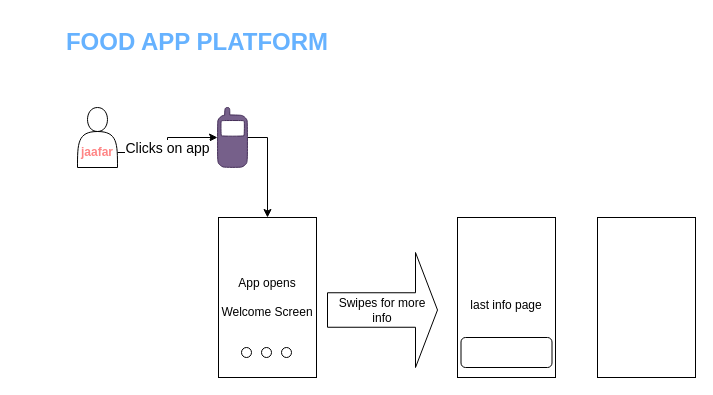
This 713x395 diagram has some shape labels left out. Here are the shapes that lost their labels. From the top down, the box of each, then its label:
(596, 216, 696, 378): Sign-in Google Phone number apple account
(460, 336, 552, 368): Continue
